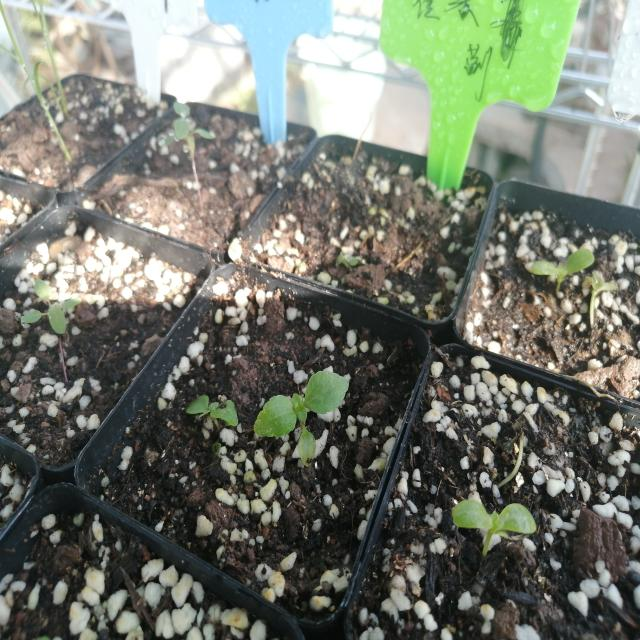field_thistle: (265, 368, 360, 470), (444, 479, 552, 556)
